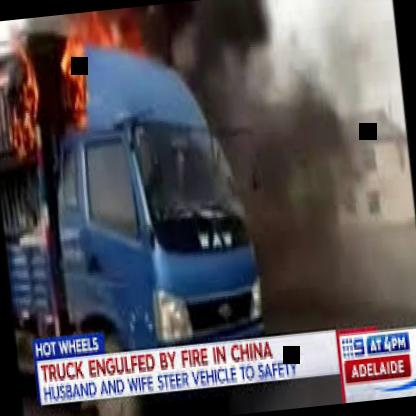fire: (0, 8, 130, 140)
